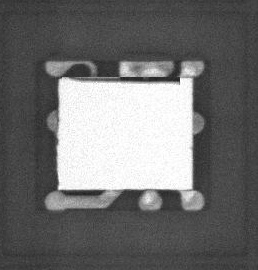DIE_BROKEN: (72, 74, 182, 85)
